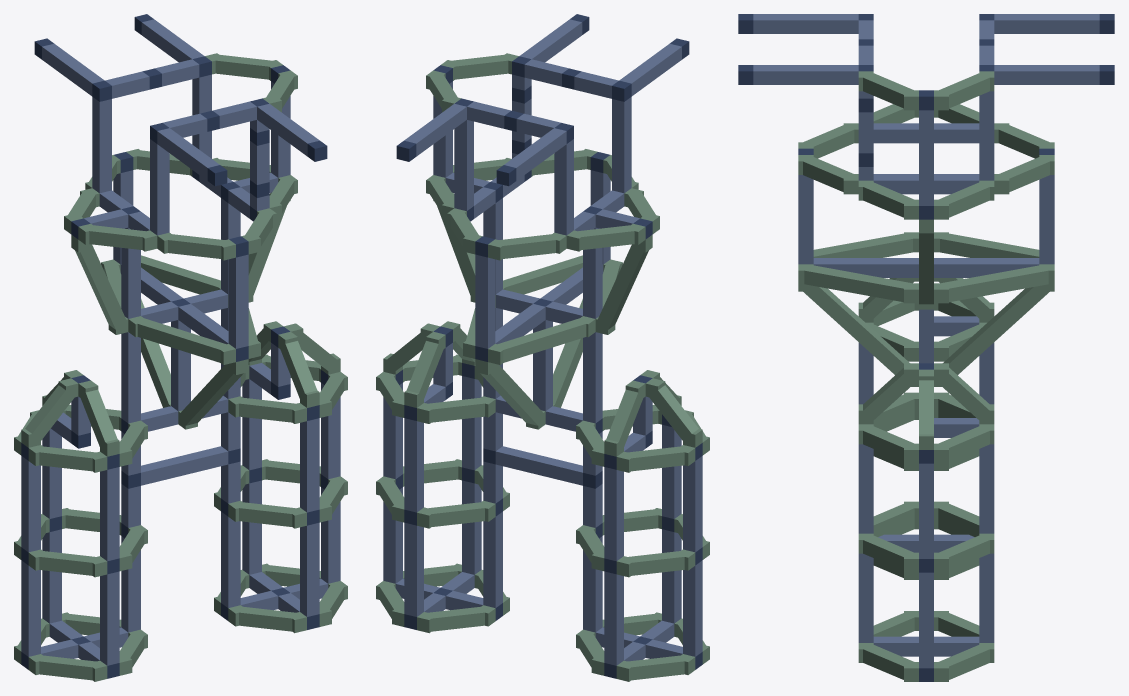
The model's file is ship-in-progress.gltf.
The picture shows the model from 3 angles, left to right: view 1: azimuth 30°, elevation 25°; view 2: azimuth 150°, elevation 25°; view 3: azimuth 270°, elevation 25°; orthographic projection. The views are drawn at different scales.
Visible parts, largest first — view 1: strut_a35b11e0-21e6-4cc6-b0fe-cf7f8adb787b, strut_18e4e33c-e5c4-4551-b3f8-3cc5fc3aea17, strut_6f0711a6-2278-4def-8a1c-7306f9a96bbb, strut_cd6ebb72-e415-4949-9491-87f3ada01432, strut_758c7723-d52b-45d1-84e3-f3dedcfe718a, strut_b4960e5c-2e6f-4e6f-a8b9-d3b6af214ba0, strut_e63da924-9d82-4e96-8013-f6d485b6e0b9, strut_fcb0050d-51a8-47c9-ab39-473d0c7500d1, strut_d2ad178f-6e49-447f-abac-e3d79772c0a5, strut_0134509e-8cb2-44e1-96d3-f2ecffcbca6a, strut_4c7c737b-5858-487b-9295-e5d5d0fec2d4, strut_d46e882d-f5cd-42a1-9d84-f2dc28e8cdaf (+72 smaller); view 2: strut_bd831662-4467-4a4b-b5f9-c20f4b81757e, strut_18e4e33c-e5c4-4551-b3f8-3cc5fc3aea17, strut_fc31fc04-82c0-4d3c-97aa-8583f27627eb, strut_4ac98374-fb4b-444c-9945-40b95664a6e5, strut_82ce21e3-fd42-4ec2-9fd4-9a77fb721702, strut_d32ddcbb-f950-4751-a3d1-b86f2a251d9b, strut_84694bb2-d214-4fb7-ae58-d072f2057759, strut_f11b394c-b486-4ca3-881d-7ca0640b98fb, strut_d2ad178f-6e49-447f-abac-e3d79772c0a5, strut_0134509e-8cb2-44e1-96d3-f2ecffcbca6a, strut_4c7c737b-5858-487b-9295-e5d5d0fec2d4, strut_d46e882d-f5cd-42a1-9d84-f2dc28e8cdaf (+71 smaller); view 3: strut_b0f75cc3-e32e-419a-96ed-06d94d9f9624, strut_03a60cbe-1194-4f5b-b57f-140a29d73541, strut_c2b8624a-12de-4e3a-bdaa-d23999f65a52, strut_d35e8507-6fa2-4c65-9373-84d60368b283, strut_6904b437-bb17-422f-8167-06f57f4549af, strut_1b712566-2a1b-4f41-96de-d42a54c1541b, strut_8e6d083a-ea33-43df-b120-d285e8c85dd9, strut_b77662c1-95a1-470c-9cb1-8ada47b96a9e, strut_a35b11e0-21e6-4cc6-b0fe-cf7f8adb787b, strut_bd831662-4467-4a4b-b5f9-c20f4b81757e, strut_5b02f55a-181b-49cc-ba3b-ead549d548bf, strut_9427a73a-d8b7-4fff-a542-fb38e3664deb (+53 smaller).
Boxes of the visible parts, x1,y1,x2,y2 form: strut_a35b11e0-21e6-4cc6-b0fe-cf7f8adb787b: [128, 316, 235, 364]; strut_18e4e33c-e5c4-4551-b3f8-3cc5fc3aea17: [71, 235, 128, 334]; strut_6f0711a6-2278-4def-8a1c-7306f9a96bbb: [228, 254, 248, 348]; strut_cd6ebb72-e415-4949-9491-87f3ada01432: [92, 97, 111, 193]; strut_758c7723-d52b-45d1-84e3-f3dedcfe718a: [300, 418, 319, 512]; strut_b4960e5c-2e6f-4e6f-a8b9-d3b6af214ba0: [300, 522, 319, 616]; strut_e63da924-9d82-4e96-8013-f6d485b6e0b9: [100, 571, 119, 665]; strut_fcb0050d-51a8-47c9-ab39-473d0c7500d1: [100, 467, 119, 561]; strut_d2ad178f-6e49-447f-abac-e3d79772c0a5: [141, 446, 228, 485]; strut_0134509e-8cb2-44e1-96d3-f2ecffcbca6a: [21, 560, 40, 656]; strut_4c7c737b-5858-487b-9295-e5d5d0fec2d4: [21, 456, 40, 552]; strut_d46e882d-f5cd-42a1-9d84-f2dc28e8cdaf: [221, 511, 240, 607]; strut_bd831662-4467-4a4b-b5f9-c20f4b81757e: [488, 316, 595, 364]; strut_18e4e33c-e5c4-4551-b3f8-3cc5fc3aea17: [595, 235, 652, 334]; strut_fc31fc04-82c0-4d3c-97aa-8583f27627eb: [475, 254, 495, 348]; strut_4ac98374-fb4b-444c-9945-40b95664a6e5: [612, 97, 631, 193]; strut_82ce21e3-fd42-4ec2-9fd4-9a77fb721702: [404, 418, 423, 512]; strut_d32ddcbb-f950-4751-a3d1-b86f2a251d9b: [404, 522, 423, 616]; strut_84694bb2-d214-4fb7-ae58-d072f2057759: [604, 571, 623, 665]; strut_f11b394c-b486-4ca3-881d-7ca0640b98fb: [604, 467, 623, 561]; strut_d2ad178f-6e49-447f-abac-e3d79772c0a5: [495, 446, 582, 485]; strut_0134509e-8cb2-44e1-96d3-f2ecffcbca6a: [683, 560, 702, 656]; strut_4c7c737b-5858-487b-9295-e5d5d0fec2d4: [683, 456, 702, 552]; strut_d46e882d-f5cd-42a1-9d84-f2dc28e8cdaf: [483, 511, 502, 607]; strut_b0f75cc3-e32e-419a-96ed-06d94d9f9624: [934, 264, 1054, 303]; strut_03a60cbe-1194-4f5b-b57f-140a29d73541: [798, 264, 918, 303]; strut_c2b8624a-12de-4e3a-bdaa-d23999f65a52: [798, 284, 918, 386]; strut_d35e8507-6fa2-4c65-9373-84d60368b283: [934, 284, 1054, 386]; strut_6904b437-bb17-422f-8167-06f57f4549af: [753, 14, 858, 33]; strut_1b712566-2a1b-4f41-96de-d42a54c1541b: [753, 65, 858, 84]; strut_8e6d083a-ea33-43df-b120-d285e8c85dd9: [994, 14, 1099, 33]; strut_b77662c1-95a1-470c-9cb1-8ada47b96a9e: [994, 65, 1099, 84]; strut_a35b11e0-21e6-4cc6-b0fe-cf7f8adb787b: [813, 232, 918, 257]; strut_bd831662-4467-4a4b-b5f9-c20f4b81757e: [934, 232, 1039, 257]; strut_5b02f55a-181b-49cc-ba3b-ead549d548bf: [813, 258, 918, 277]; strut_9427a73a-d8b7-4fff-a542-fb38e3664deb: [934, 258, 1039, 277].
Size of the model in its own units: 16.67 by 27.33 by 16.67.
